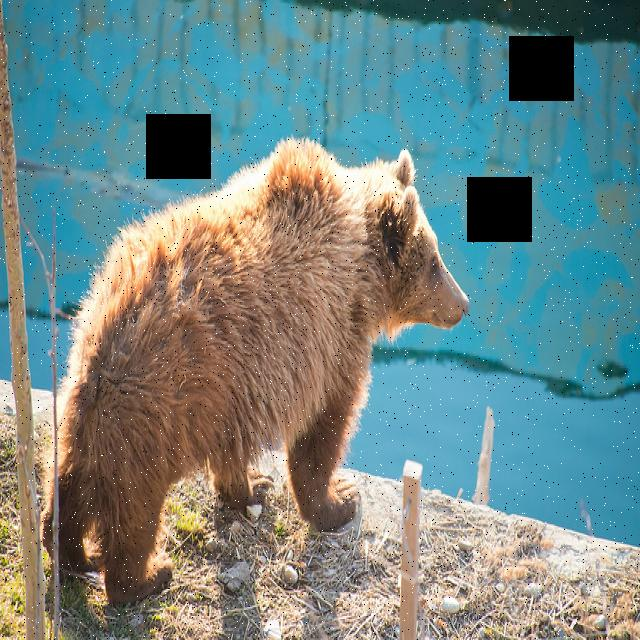Bear: (48, 139, 484, 604)
